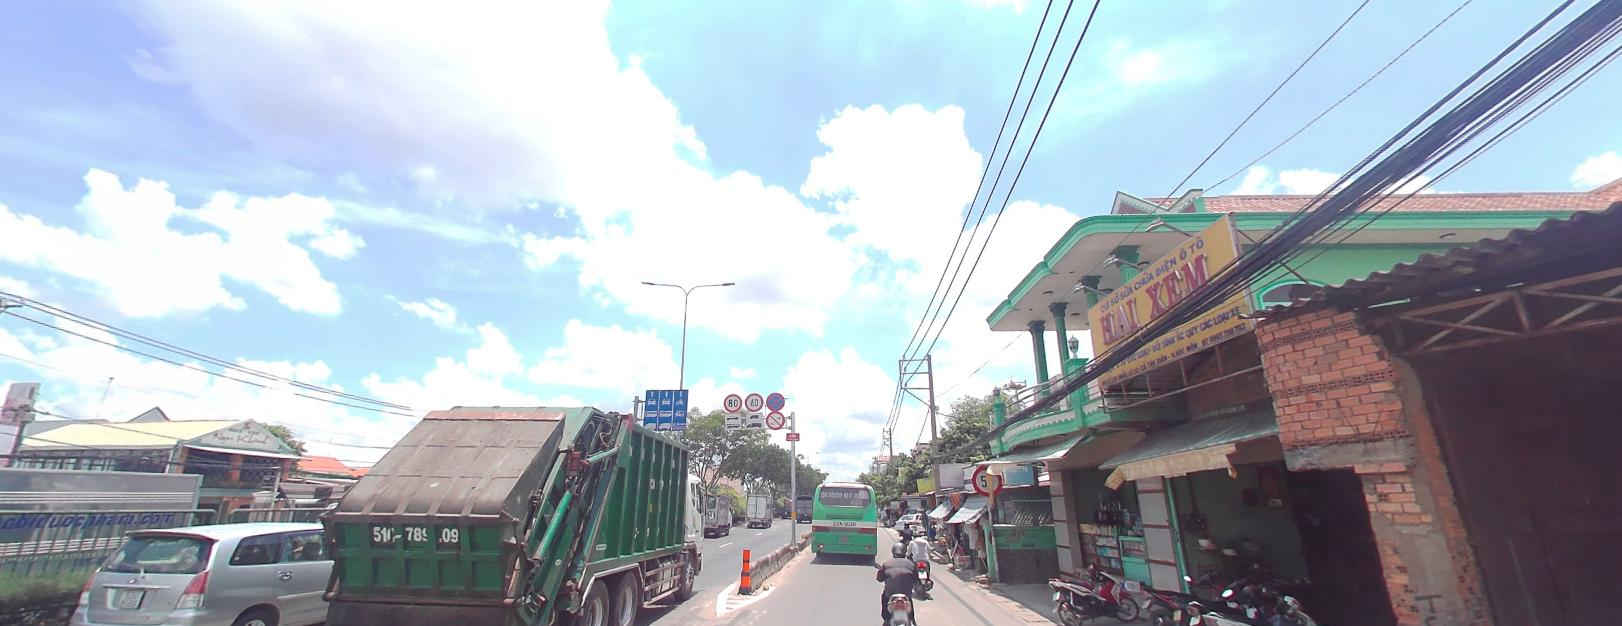Cam con lai: (765, 409, 783, 428)
Cam dung va do: (765, 390, 784, 409)
Gioi han toc do: (970, 463, 1001, 495), (744, 391, 762, 410), (723, 391, 741, 410)
